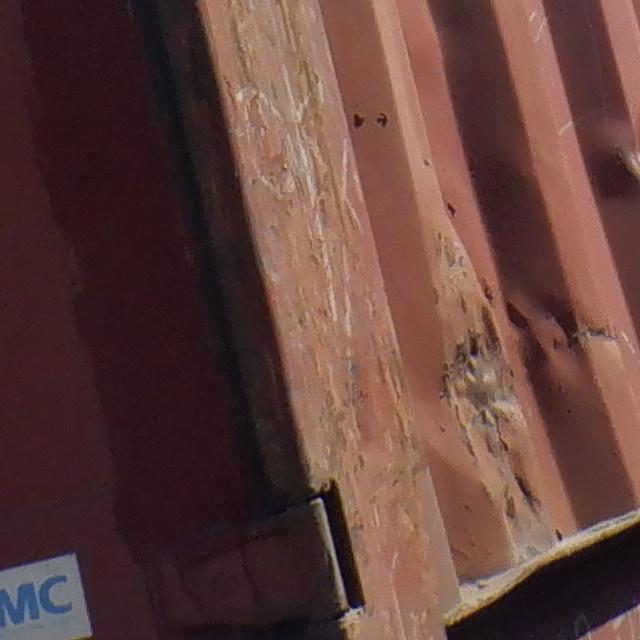dent: (399, 214, 640, 540)
